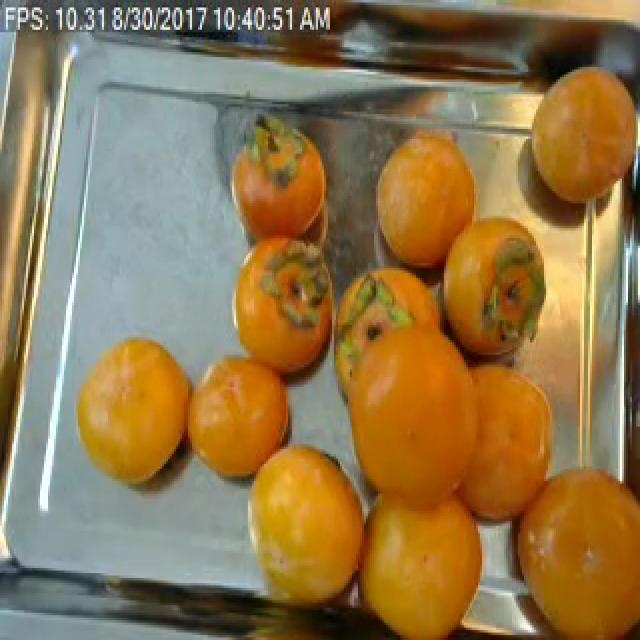Fruit: (228, 424, 382, 635), (62, 323, 208, 501), (514, 44, 638, 246), (214, 104, 334, 266)
